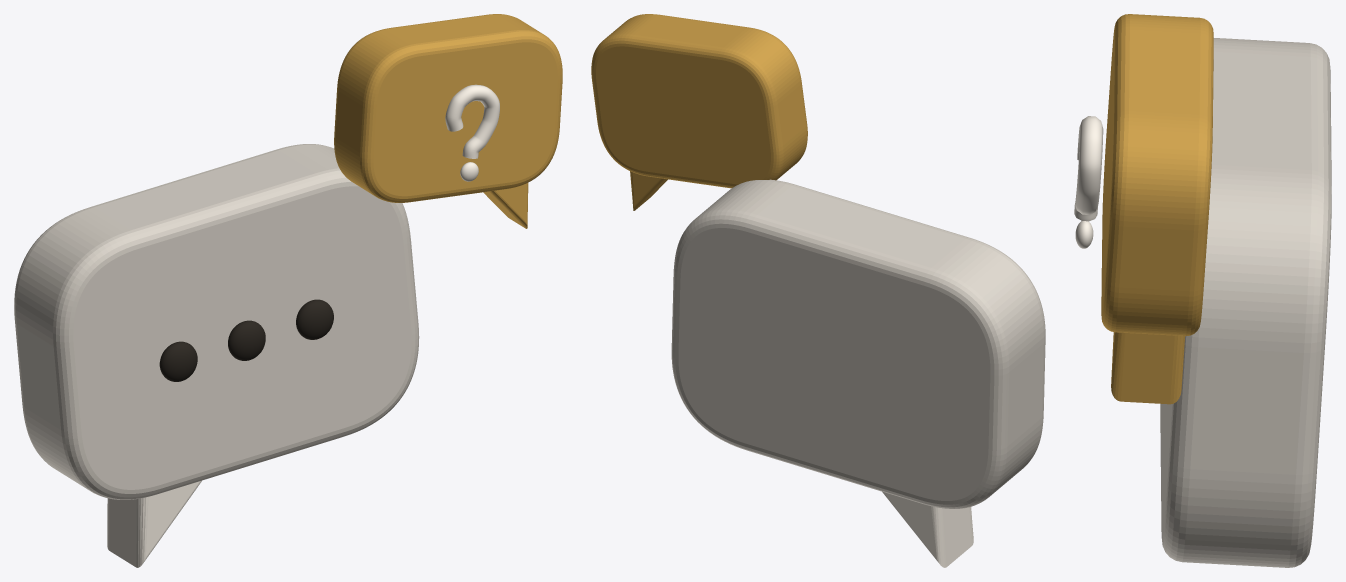
The model's file is deco-bulles-faq-v2.glb.
3 renders of one model, left to right at view 1: azimuth 30°, elevation 25°; view 2: azimuth 150°, elevation 25°; view 3: azimuth 270°, elevation 25°, orthographic. The views are drawn at different scales.
Parts seen in each view (by area): view 1: deco-bulles-faq; view 2: deco-bulles-faq; view 3: deco-bulles-faq.
Part boxes in pixels (left/top/right/bottom): deco-bulles-faq: left=14, top=14, right=562, bottom=567; deco-bulles-faq: left=591, top=14, right=1045, bottom=567; deco-bulles-faq: left=1074, top=14, right=1331, bottom=567.
Size of the model in its own units: 0.226 by 0.214 by 0.0729.
